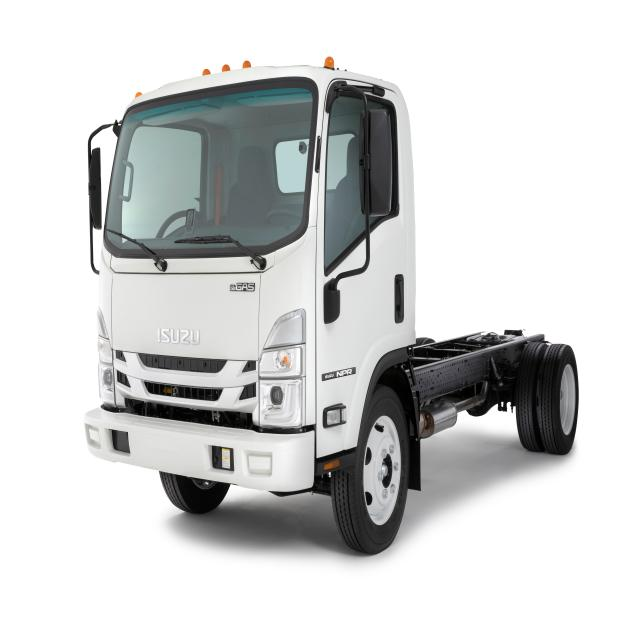truck: (77, 35, 601, 564)
